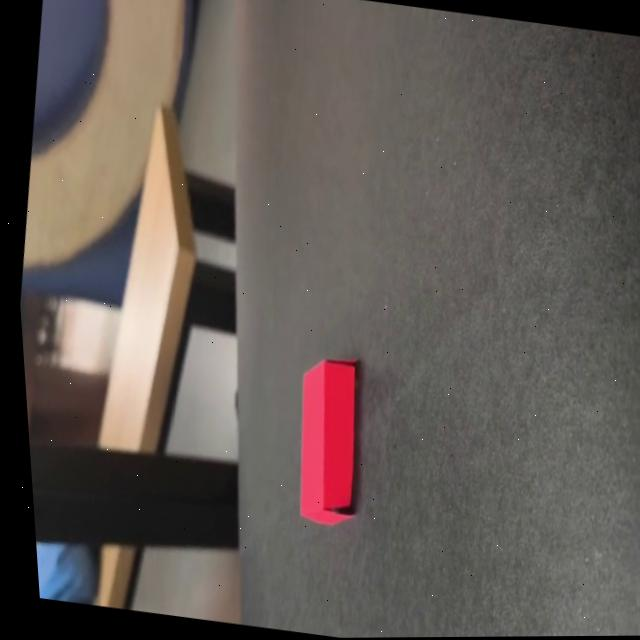red block: (279, 350, 376, 529)
